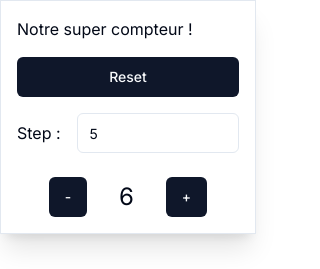
Scenario: Le composant Counter est initialisé avec une valeur maximum de 12 (maxValue), une valeur initiale de 6 et un step de 5 › Si on clique sur le bouton increment, la valeur du compteur est incrémentée de 5 et on affiche 11. Le bouton "+" doit être "disabled"
The width and height of the screenshot is (320, 269).
Step 1. Click the button "+" → (186, 197), box x1=166 y1=177 x2=207 y2=217
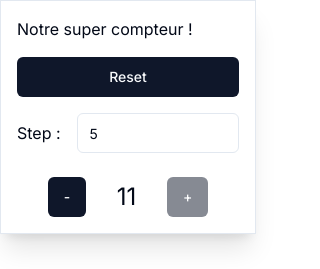
Check: the text "11" is shown, box x1=117 y1=181 x2=136 y2=213
Check: the button "+" is disabled, box x1=167 y1=177 x2=208 y2=217
